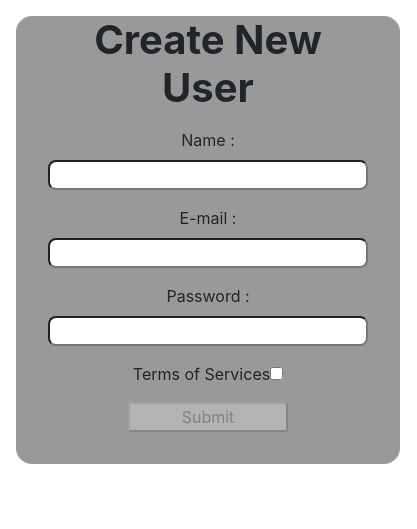
form test › name valid test
Type "A" into the field with test id "name" at (208, 175), box [48,160,368,190]
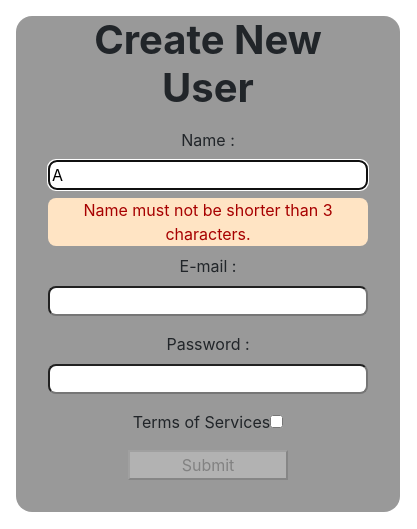
Check: the text "Name must not be shorter than 3 characters." is shown, box [48,198,368,246]
Clear the field named "name" at (208, 175), box [48,160,368,190]
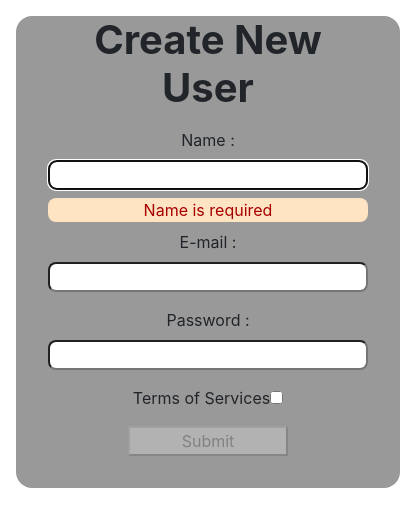
Check: the text "Name is required" is shown, box [48,198,368,222]
